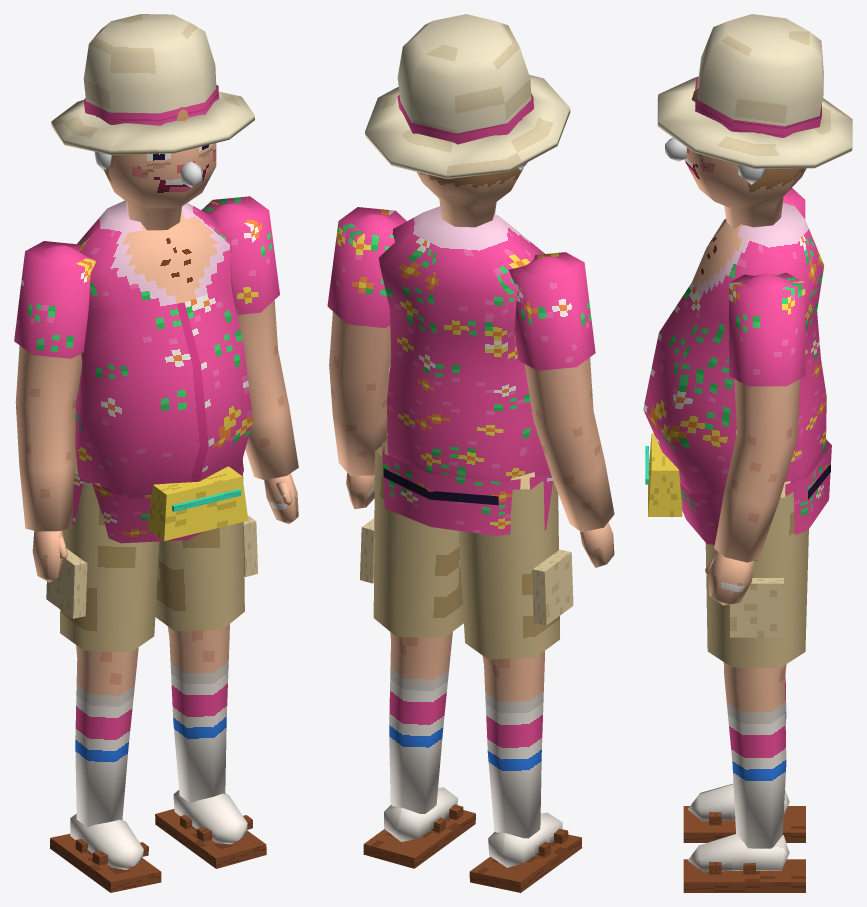
The model's file is Dad Pink.fbx.
3 renders of one model, left to right at view 1: azimuth 30°, elevation 25°; view 2: azimuth 150°, elevation 25°; view 3: azimuth 270°, elevation 25°, orthographic.
Parts seen in each view (by area): view 1: Dad Pink torso, Dad Pink bucket hat crown, Dad Pink arm R.001, Dad Pink shorts R, Dad Pink leg R.001, Dad Pink leg L.001, Dad Pink shorts L, Dad Pink arm L.001, Dad Pink sleeve R, Dad Pink bucket hat brim, Dad Pink head, Dad Pink fanny pack.001 (+11 smaller); view 2: Dad Pink torso, Dad Pink bucket hat crown, Dad Pink shorts R, Dad Pink shorts L, Dad Pink arm R.001, Dad Pink leg R.001, Dad Pink leg L.001, Dad Pink bucket hat brim, Dad Pink arm L.001, Dad Pink sleeve R, Dad Pink shirt hem, Dad Pink sleeve L (+11 smaller); view 3: Dad Pink torso, Dad Pink bucket hat crown, Dad Pink arm L.001, Dad Pink leg L.001, Dad Pink bucket hat brim, Dad Pink shorts L, Dad Pink sleeve L, Dad Pink head, Dad Pink shirt hem, Dad Pink sandal sole L, Dad Pink cargo pocket L, Dad Pink shoe L (+5 smaller).
Part boxes in pixels (x1,y1,x2,y2): Dad Pink torso: [75, 200, 252, 498]; Dad Pink bucket hat crown: [83, 14, 216, 113]; Dad Pink arm R.001: [15, 245, 87, 531]; Dad Pink shorts R: [60, 474, 159, 652]; Dad Pink leg R.001: [74, 449, 138, 827]; Dad Pink leg L.001: [167, 624, 229, 803]; Dad Pink shorts L: [155, 458, 244, 631]; Dad Pink arm L.001: [208, 202, 298, 480]; Dad Pink sleeve R: [14, 241, 96, 358]; Dad Pink bucket hat brim: [51, 91, 254, 155]; Dad Pink head: [104, 106, 216, 230]; Dad Pink fanny pack.001: [147, 466, 248, 541]; Dad Pink torso: [378, 206, 549, 481]; Dad Pink bucket hat crown: [397, 14, 531, 133]; Dad Pink shorts R: [458, 472, 559, 659]; Dad Pink shorts L: [373, 446, 463, 637]; Dad Pink arm R.001: [521, 256, 614, 532]; Dad Pink leg R.001: [482, 472, 544, 838]; Dad Pink leg L.001: [382, 439, 452, 813]; Dad Pink bucket hat brim: [365, 75, 570, 178]; Dad Pink arm L.001: [329, 213, 399, 475]; Dad Pink sleeve R: [509, 252, 595, 370]; Dad Pink shirt hem: [382, 435, 553, 535]; Dad Pink sleeve L: [327, 207, 406, 327]; Dad Pink torso: [643, 202, 826, 495]; Dad Pink bucket hat crown: [697, 14, 823, 126]; Dad Pink arm L.001: [714, 273, 800, 562]; Dad Pink leg L.001: [723, 481, 790, 848]; Dad Pink bucket hat brim: [657, 77, 852, 168]; Dad Pink shorts L: [705, 491, 808, 667]; Dad Pink sleeve L: [729, 272, 805, 386]; Dad Pink head: [684, 88, 806, 229]; Dad Pink shirt hem: [680, 439, 831, 544]; Dad Pink sandal sole L: [683, 859, 805, 892]; Dad Pink cargo pocket L: [730, 577, 783, 637]; Dad Pink shoe L: [688, 834, 789, 871].
Bounding box in the file's own units: 0.6244 × 1.87 × 0.4281.
Materials: 20 (18 with a texture image).
